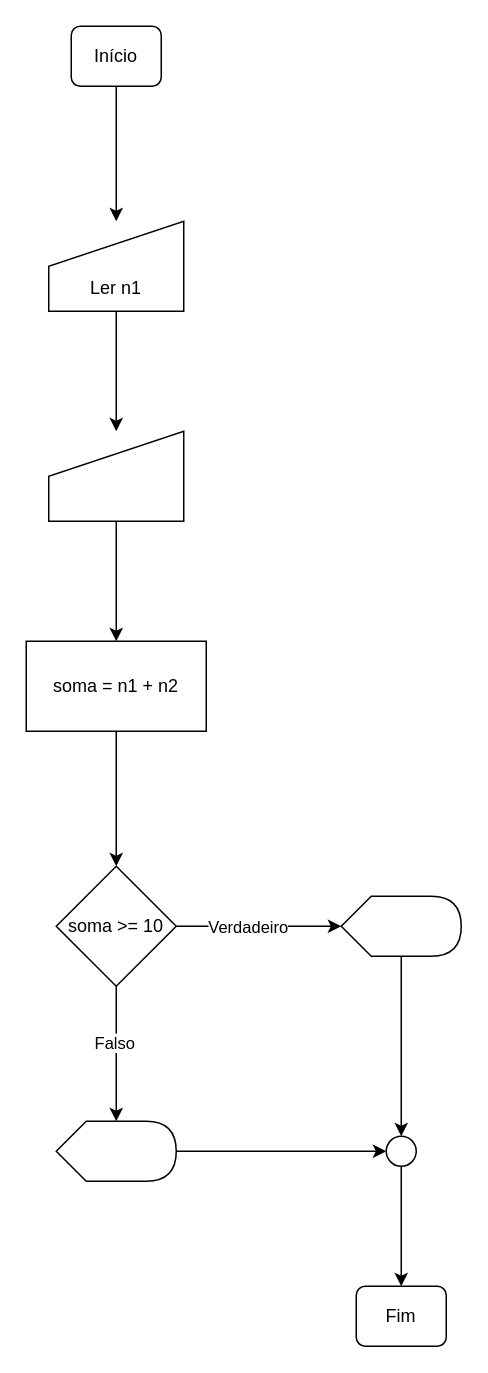
The diagram is 488 pixels wide and 1373 high, and some of its shapes have lost their labels. Here are the shapes that lost their labels. From the top down, the centre of each, then its label:
At [115,475]: "Ler n2".
At [400,925]: "soma+5".
At [115,1150]: "soma-7".
